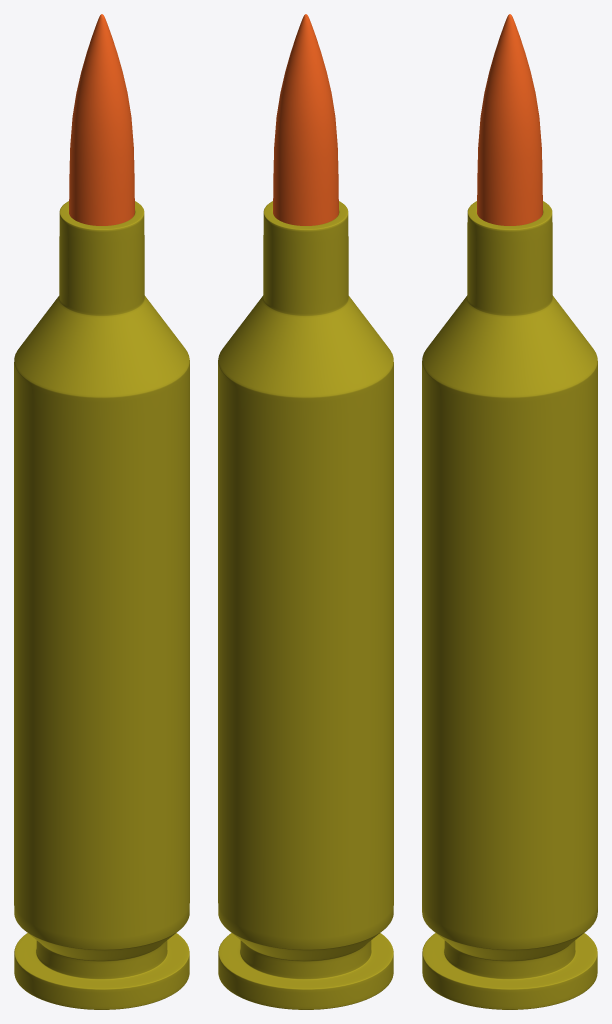
Rendered from bullet.glb.
3 views of the same model, side by side, from view 1: azimuth 30°, elevation 25°; view 2: azimuth 150°, elevation 25°; view 3: azimuth 270°, elevation 25° (orthographic).
Parts seen in each view (by area): view 1: Cylinder, Cylinder.001; view 2: Cylinder, Cylinder.001; view 3: Cylinder, Cylinder.001.
Part boxes in pixels (x1,y1,x2,y2): Cylinder: [14, 201, 189, 1009]; Cylinder.001: [69, 14, 134, 225]; Cylinder: [218, 201, 393, 1009]; Cylinder.001: [273, 14, 338, 225]; Cylinder: [422, 201, 597, 1009]; Cylinder.001: [477, 14, 542, 225].
Bounding box in the file's own units: 0.0275 × 0.1654 × 0.0275.
Materials: 1 (1 with a texture image).
